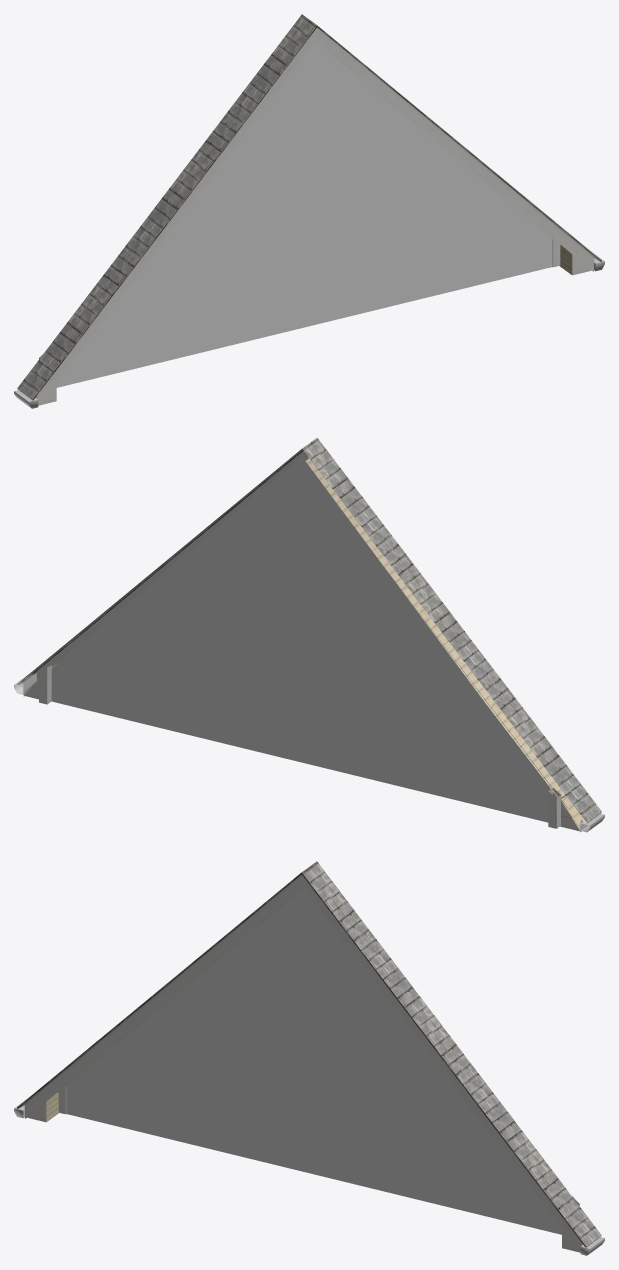
Rendered from Roof_End_8x.FBX.
3 renders of one model, top to bottom at view 1: azimuth 30°, elevation 25°; view 2: azimuth 150°, elevation 25°; view 3: azimuth 330°, elevation 25°, orthographic.
Visible parts, largest first — view 1: Roof_End_8x; view 2: Roof_End_8x; view 3: Roof_End_8x.
Boxes of the visible parts, x1,y1,x2,y2 form: Roof_End_8x: (14,14,604,408); Roof_End_8x: (14,437,604,832); Roof_End_8x: (14,861,604,1255).
Size of the model in its own units: 894 by 468 by 52.41.
